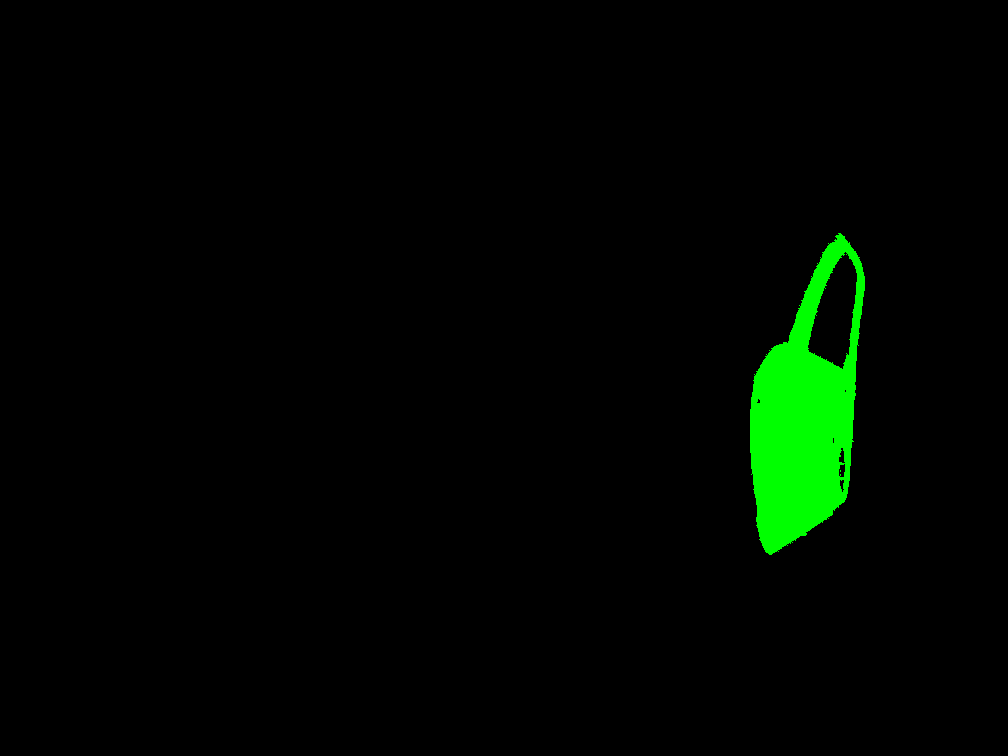car_door: (750, 233, 864, 554)
